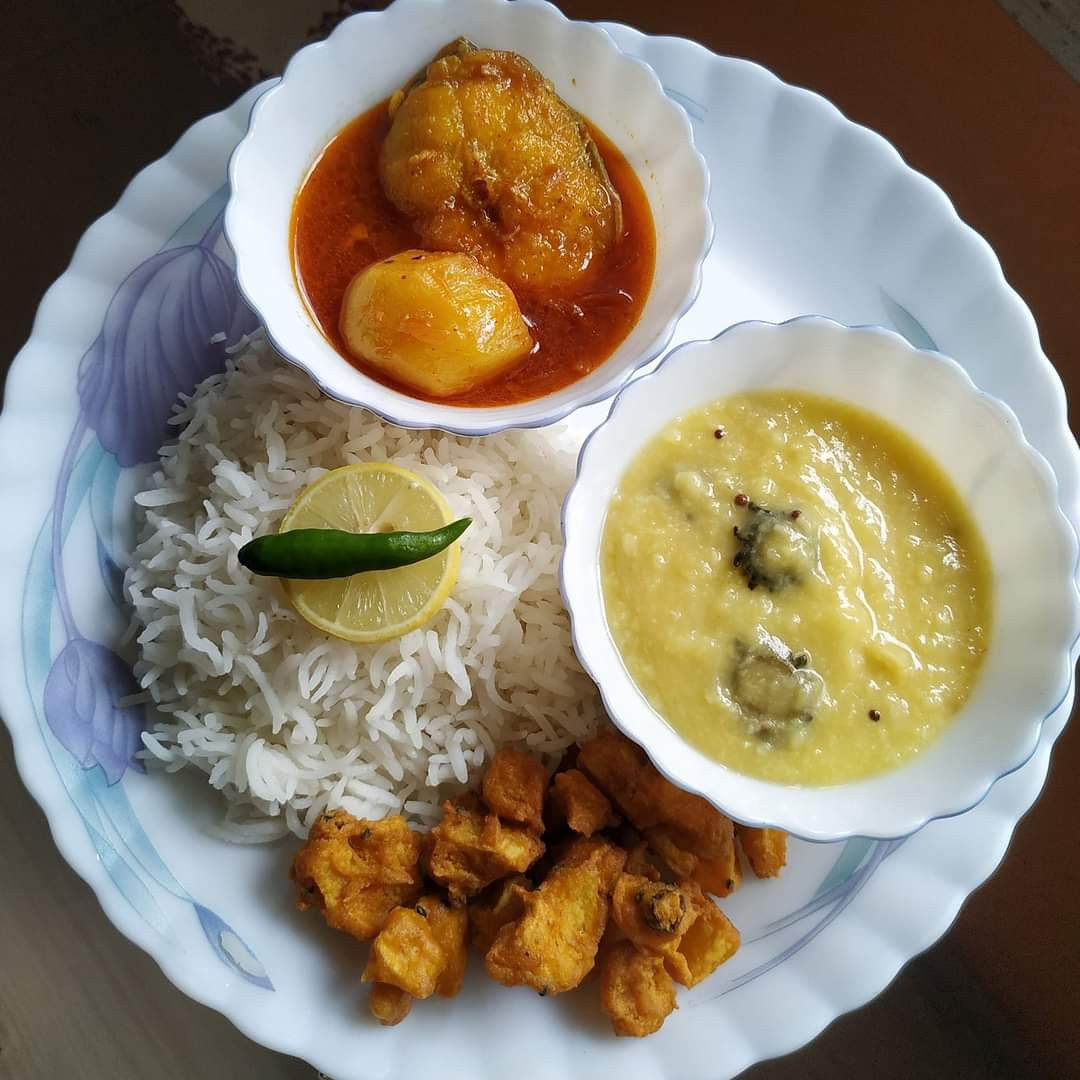bhat: (141, 375, 576, 808)
dal: (611, 405, 1018, 764)
sabji: (284, 741, 768, 1030)
